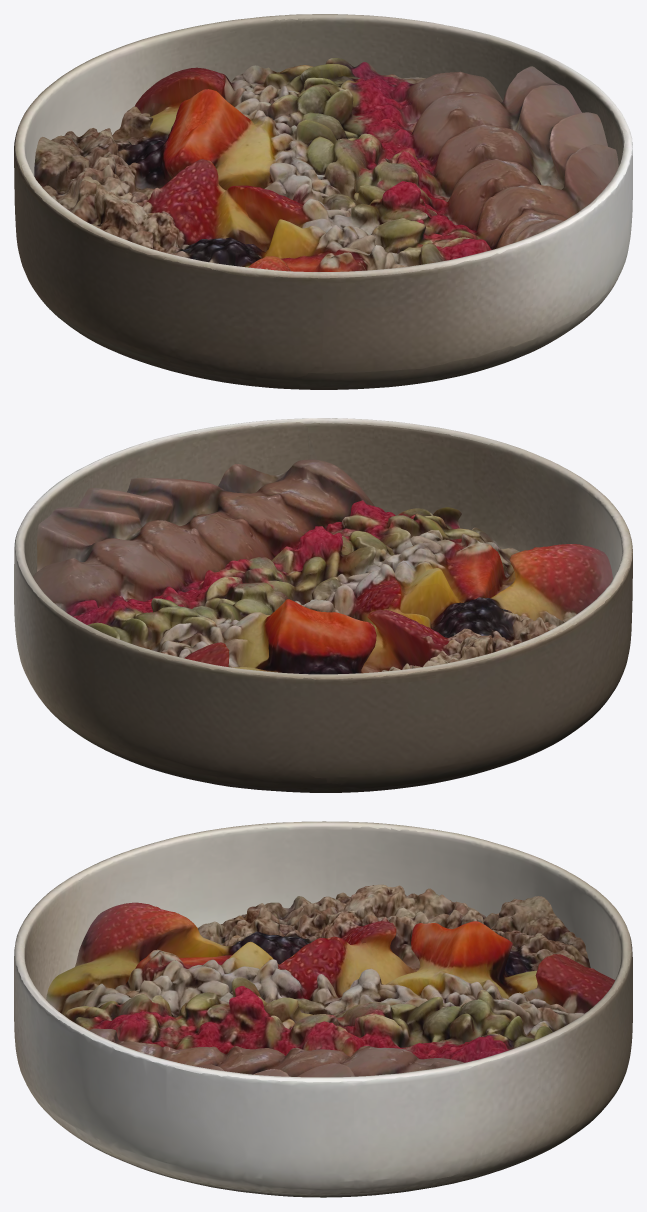
The model's file is set.otmil.002.glb.
3 renders of one model, top to bottom at view 1: azimuth 30°, elevation 25°; view 2: azimuth 150°, elevation 25°; view 3: azimuth 270°, elevation 25°, orthographic.
Visible parts, largest first — view 1: /Root/Scenes/Scene/Object_50/Object_54/Object_55/Submesh_0, /Root/Scenes/Scene/Object_50/Object_51/Submesh_0; view 2: /Root/Scenes/Scene/Object_50/Object_54/Object_55/Submesh_0, /Root/Scenes/Scene/Object_50/Object_51/Submesh_0; view 3: /Root/Scenes/Scene/Object_50/Object_54/Object_55/Submesh_0, /Root/Scenes/Scene/Object_50/Object_51/Submesh_0.
Part boxes in pixels (x1=…): /Root/Scenes/Scene/Object_50/Object_54/Object_55/Submesh_0: x1=14, y1=14, x2=632, y2=389; /Root/Scenes/Scene/Object_50/Object_51/Submesh_0: x1=34, y1=58, x2=618, y2=271; /Root/Scenes/Scene/Object_50/Object_54/Object_55/Submesh_0: x1=14, y1=418, x2=632, y2=792; /Root/Scenes/Scene/Object_50/Object_51/Submesh_0: x1=33, y1=459, x2=612, y2=674; /Root/Scenes/Scene/Object_50/Object_54/Object_55/Submesh_0: x1=14, y1=821, x2=632, y2=1197; /Root/Scenes/Scene/Object_50/Object_51/Submesh_0: x1=46, y1=884, x2=614, y2=1077.
Bounding box in the file's own units: 0.21 × 0.0543 × 0.2099.
2 materials, 2 textured.
